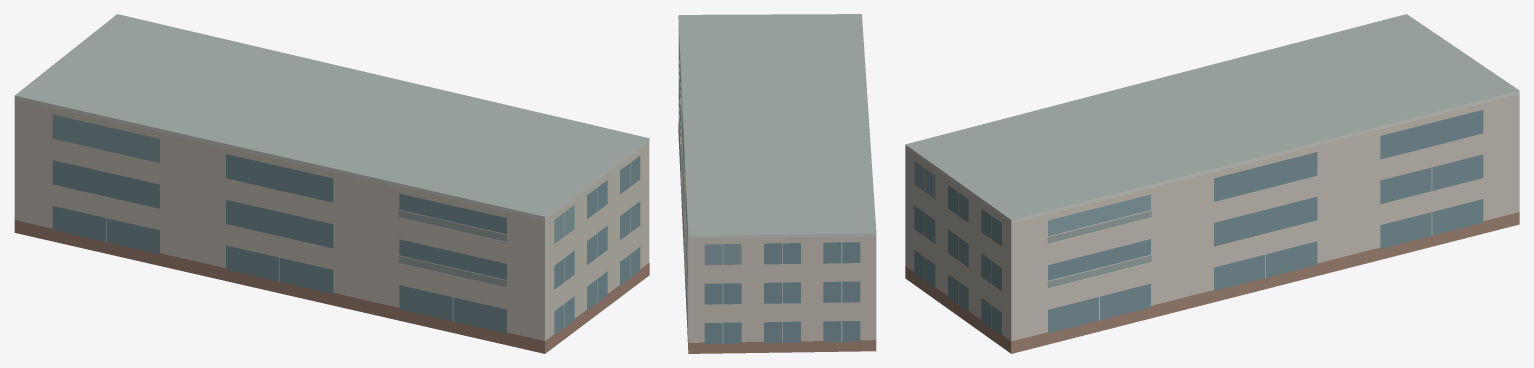
Rendered from survey-upis-32731797.glb.
3 renders of one model, left to right at view 1: azimuth 30°, elevation 25°; view 2: azimuth 150°, elevation 25°; view 3: azimuth 270°, elevation 25°, orthographic. The views are drawn at different scales.
Parts seen in each view (by area): view 1: survey-upis-32731797.tmp; view 2: survey-upis-32731797.tmp; view 3: survey-upis-32731797.tmp.
Part boxes in pixels (x1=…): survey-upis-32731797.tmp: x1=14, y1=14, x2=649, y2=353; survey-upis-32731797.tmp: x1=678, y1=14, x2=876, y2=353; survey-upis-32731797.tmp: x1=905, y1=14, x2=1519, y2=353.
Size of the model in its own units: 30.2 by 9.15 by 38.06.
